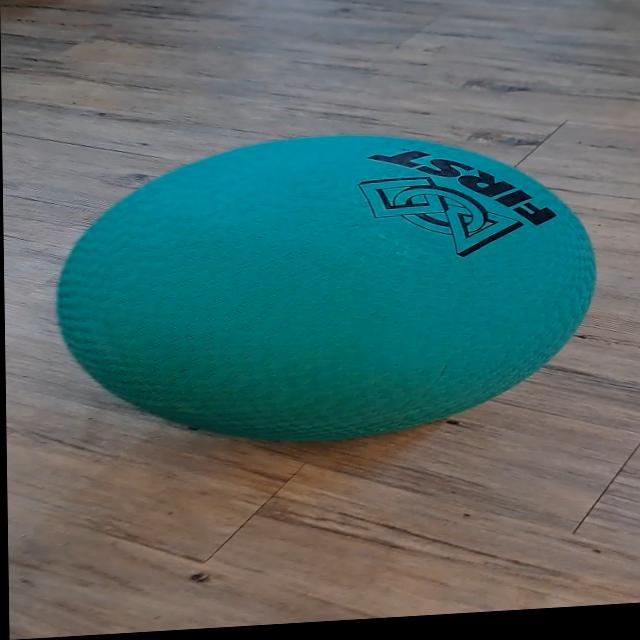ALGAE: (51, 118, 601, 458)
